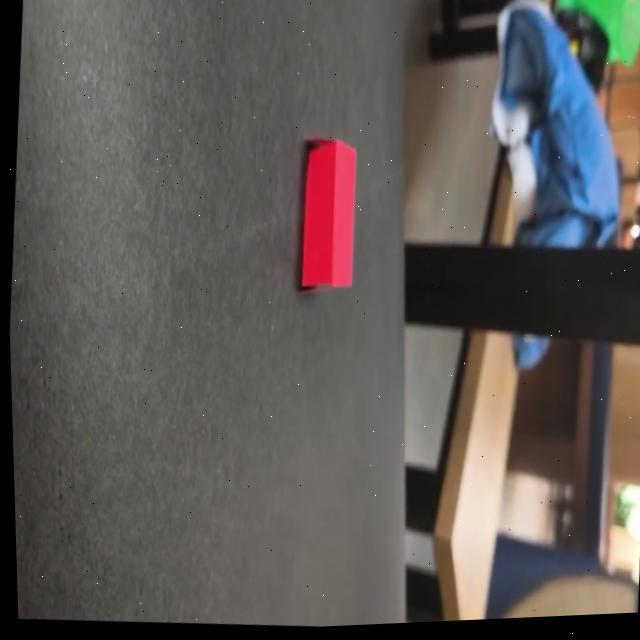red block: (293, 135, 363, 295)
